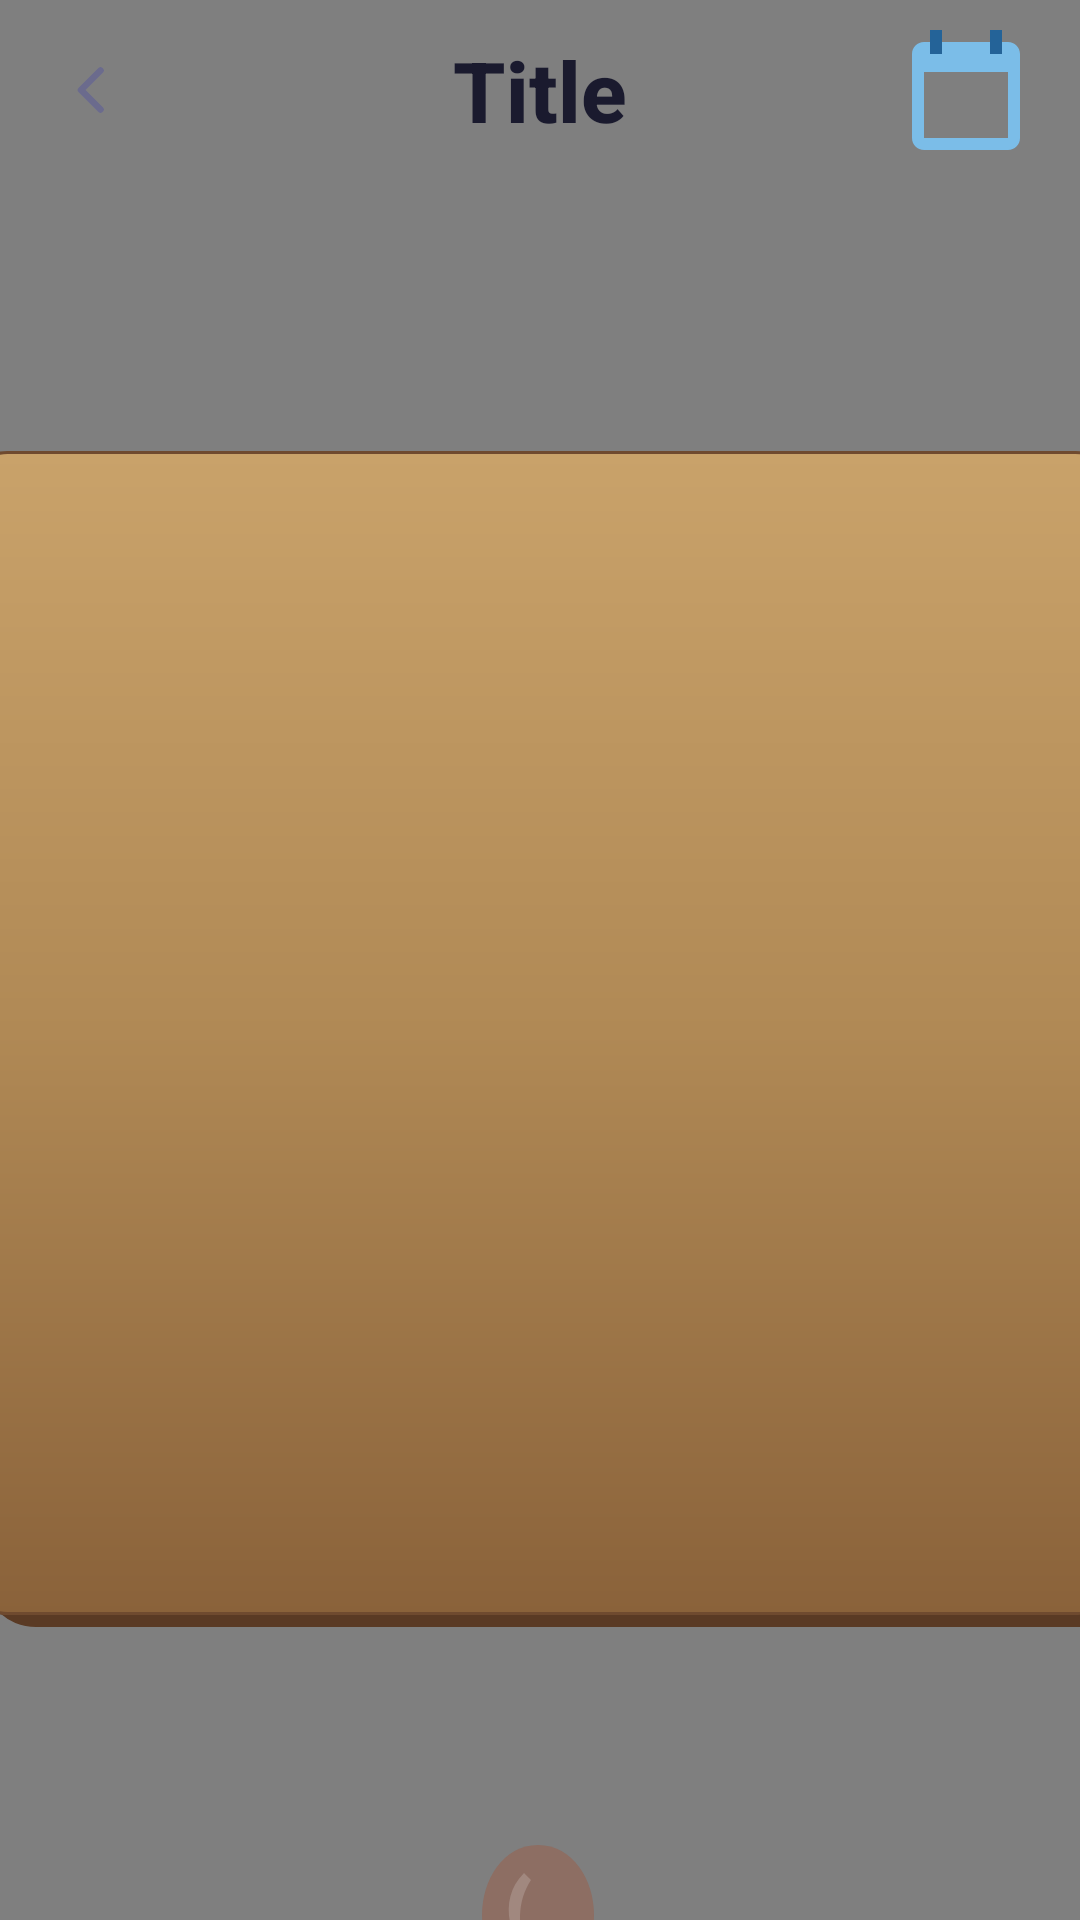

Icons on this 1080 x 1920 Android screen, each with the point to tap as [x,y]:
Calendar: [966,90]
